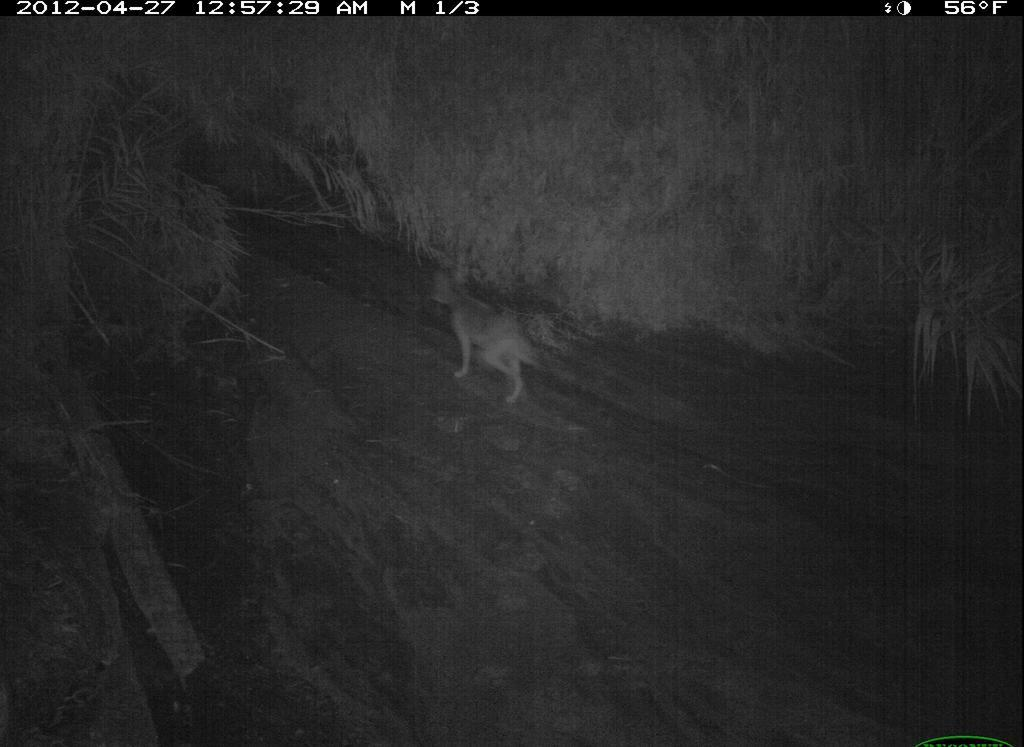coyote: (848, 536, 1024, 747)
